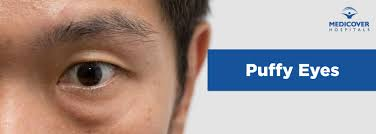PUFFY_EYES: (46, 46, 150, 129)
